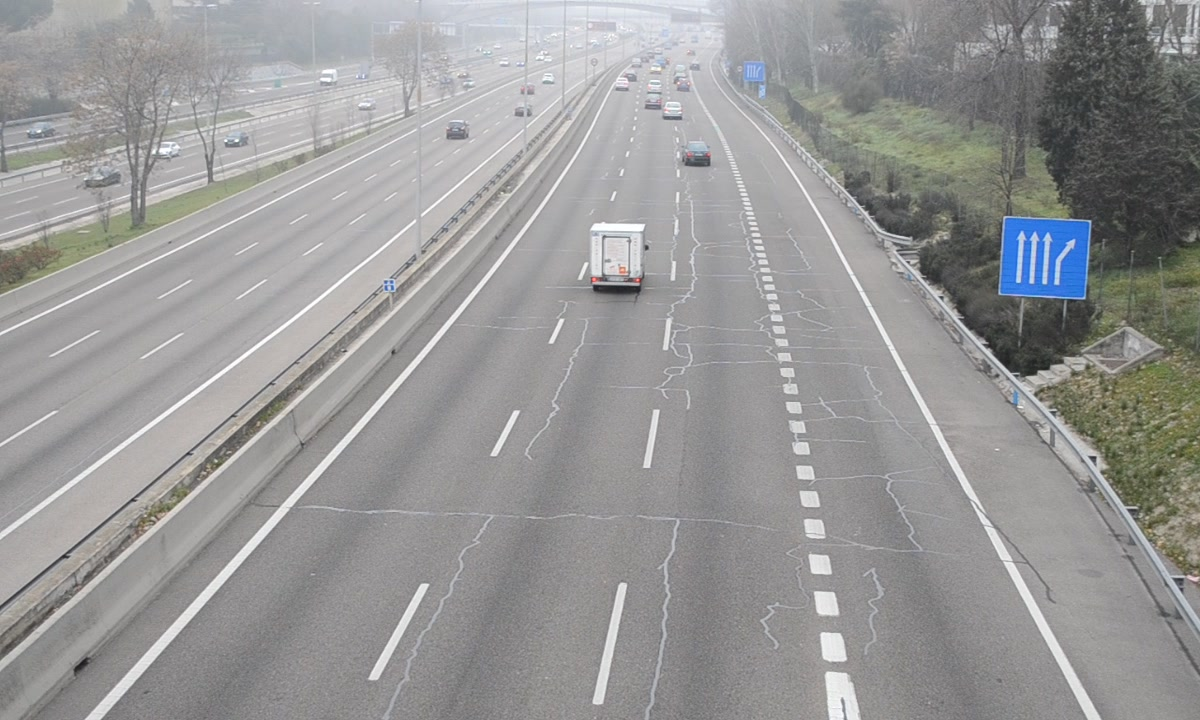car: (681, 138, 712, 168)
small-truck: (590, 223, 646, 290)
